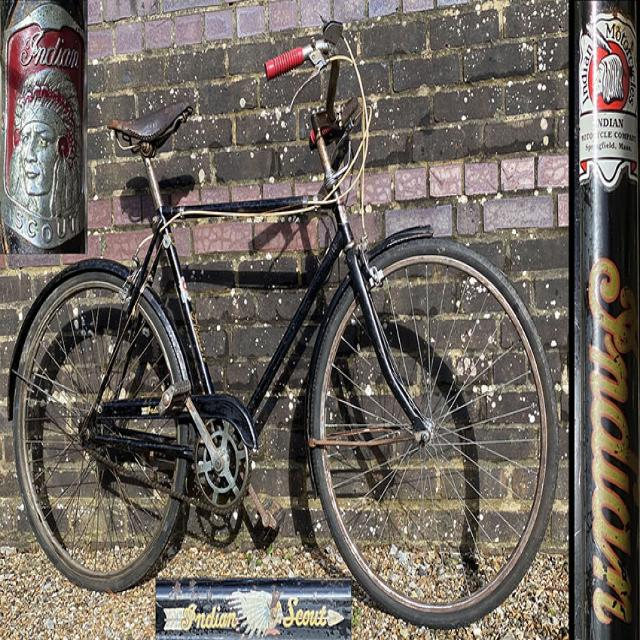bicycle: (9, 22, 558, 626)
